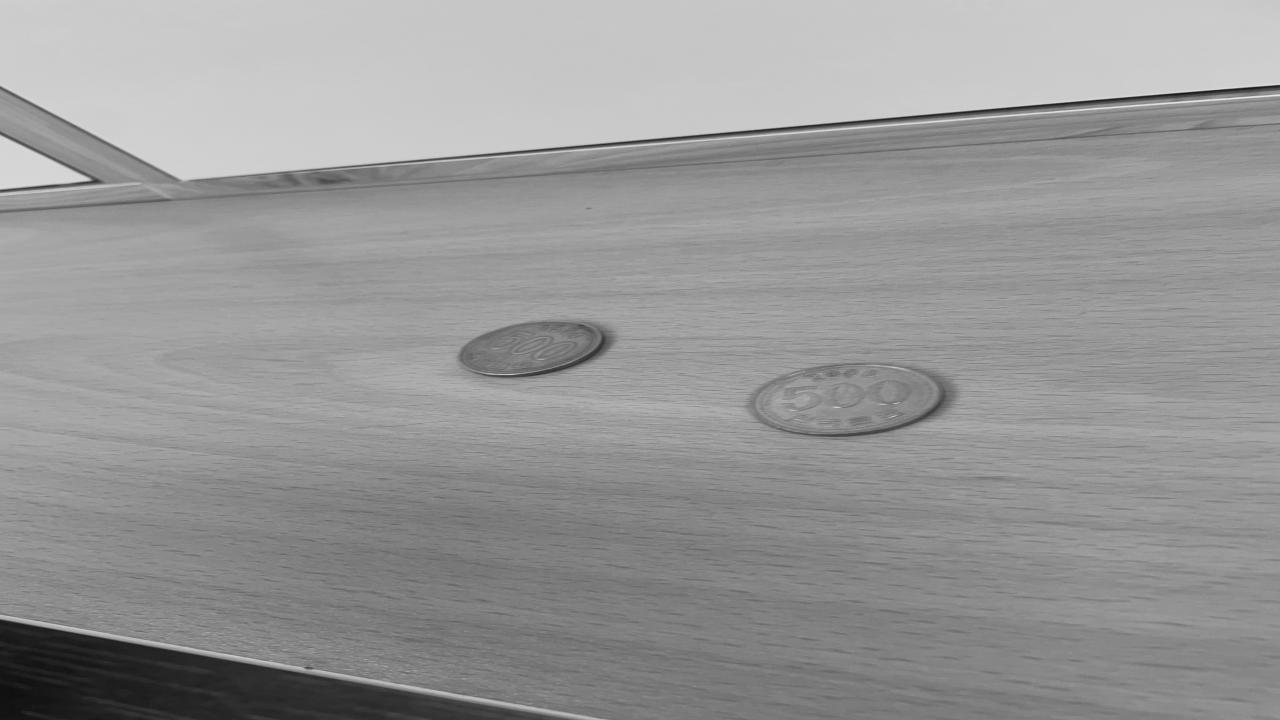coin: (742, 360, 946, 439), (450, 317, 608, 379)
